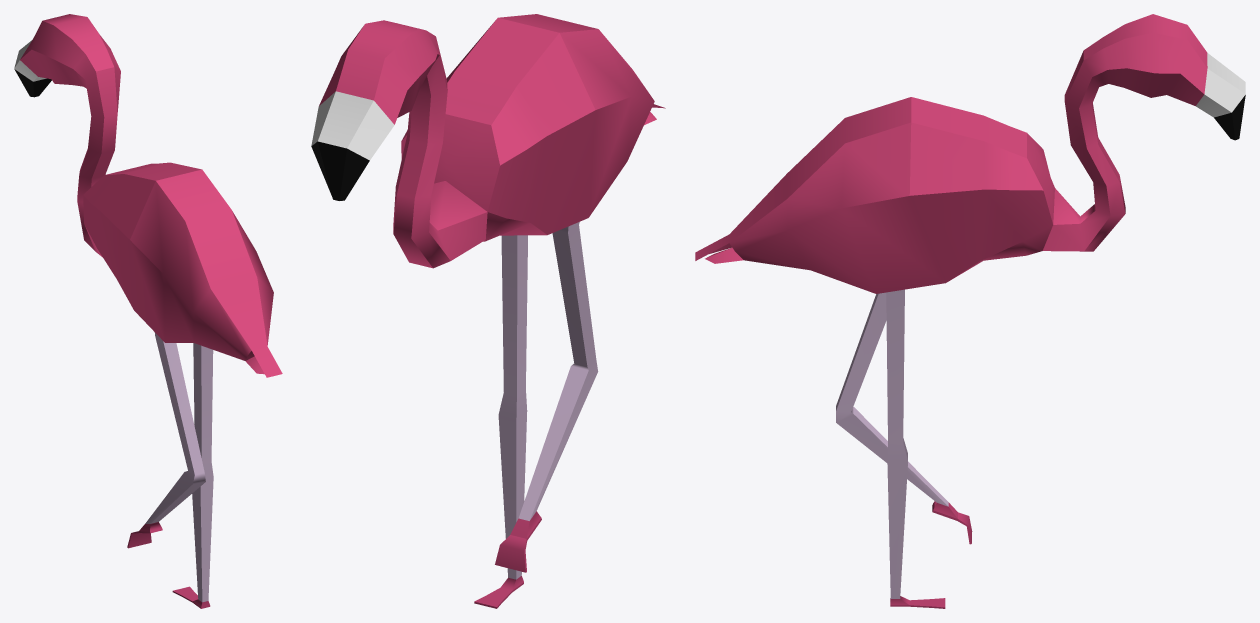
File: Flamingo.fbx
3 views of the same model, side by side, from view 1: azimuth 30°, elevation 25°; view 2: azimuth 150°, elevation 25°; view 3: azimuth 270°, elevation 25° (orthographic). The views are drawn at different scales.
Visible parts, largest first — view 1: pCube10; view 2: pCube10; view 3: pCube10.
Part boxes in pixels (x1,y1,x2,y2): pCube10: (14,14,282,608); pCube10: (311,14,665,608); pCube10: (695,14,1245,608).
Size of the model in its own units: 78.53 by 382 by 334.
